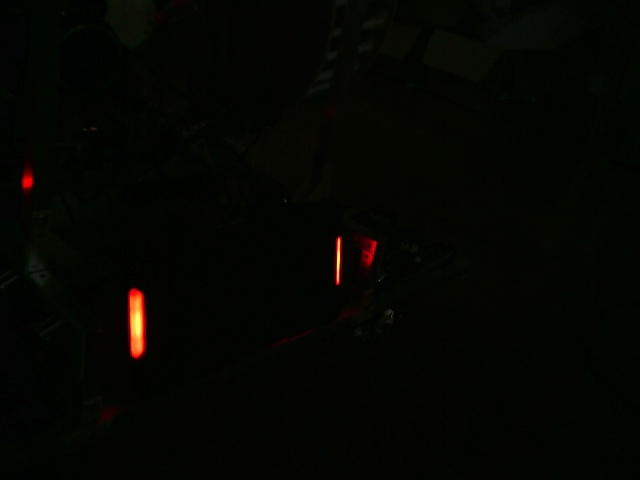lamp: (123, 282, 152, 361), (332, 233, 346, 287)
